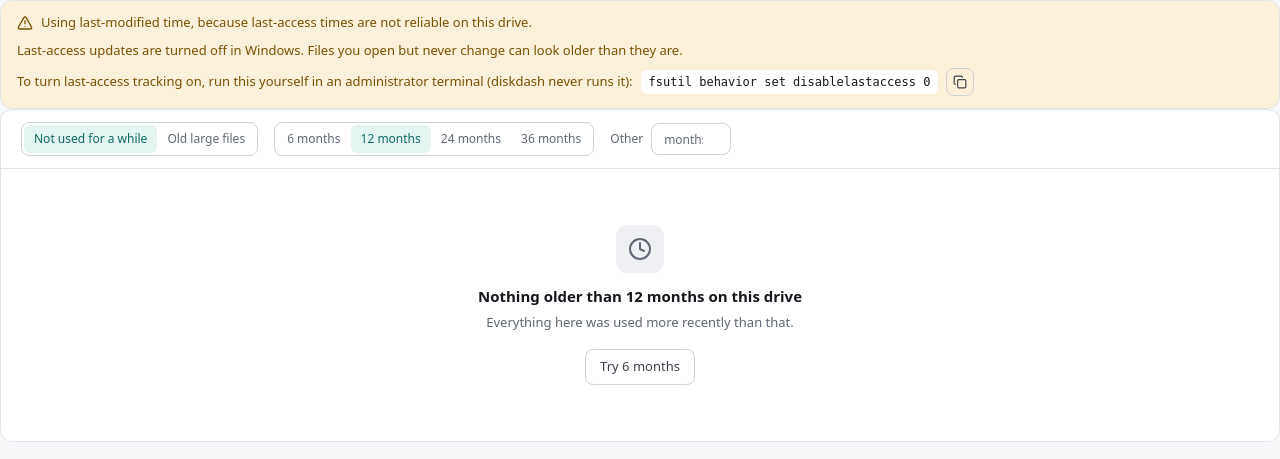
StaleTab › lists old large files with their score
Click the radio button labelled "Old large files" at (206, 139), box [157,125,255,153]
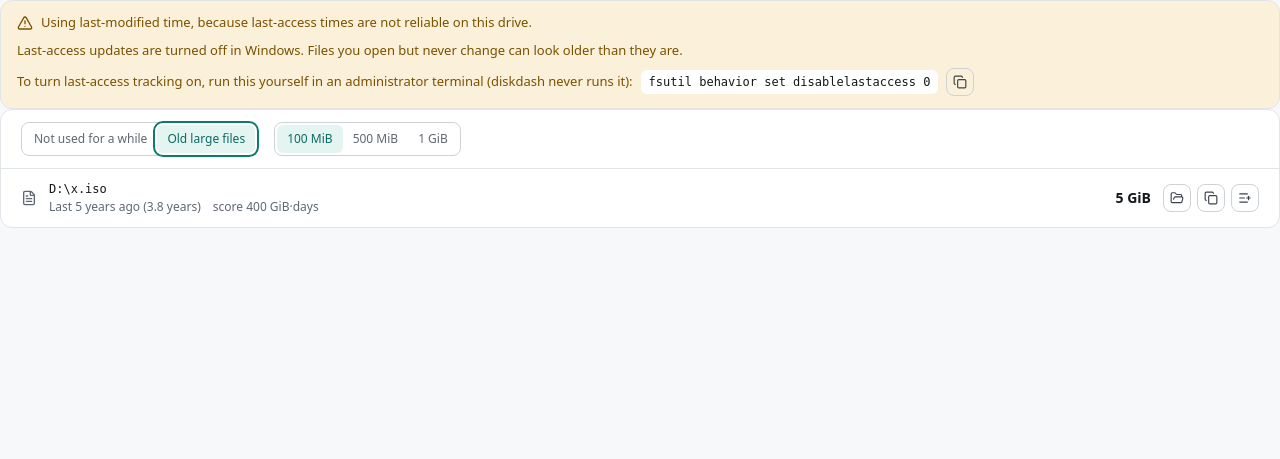
Expected: the text "D:\\x.iso" is shown, [49,182,107,196]
Expected: the text "score 400 GiB·days" is shown, [213,199,319,215]
